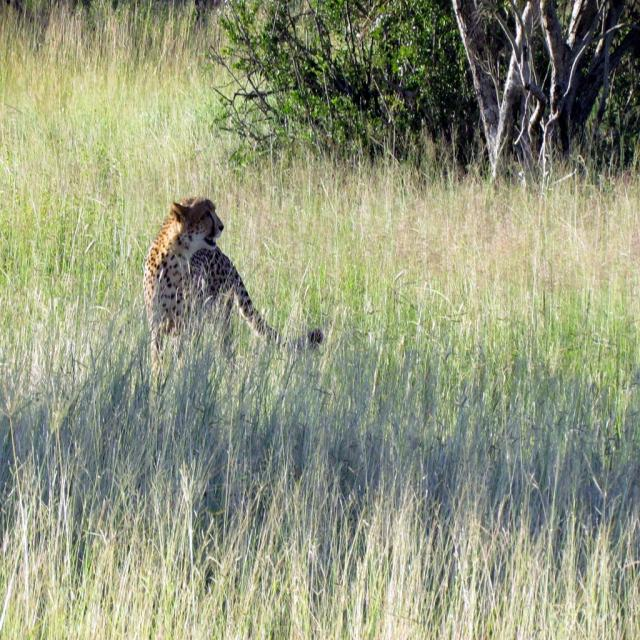Cheetah: (129, 186, 330, 367)
